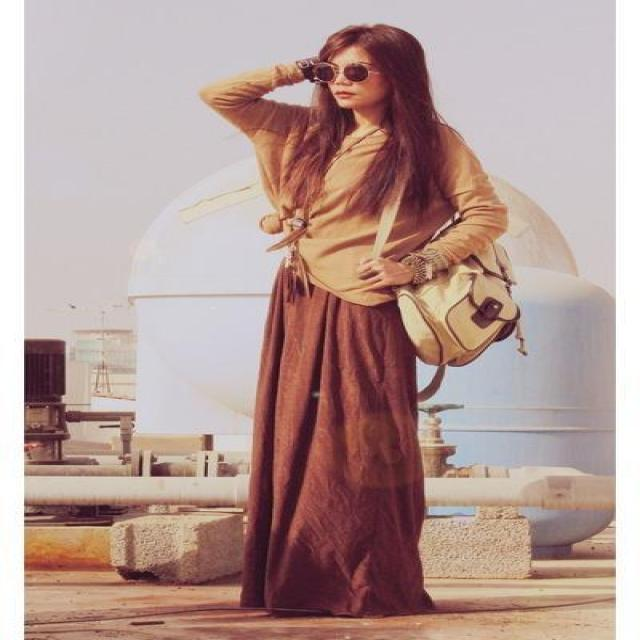bag: (398, 258, 530, 370)
shirt: (198, 61, 508, 305)
skirt: (226, 275, 440, 618)
sunglass: (288, 54, 386, 102)
